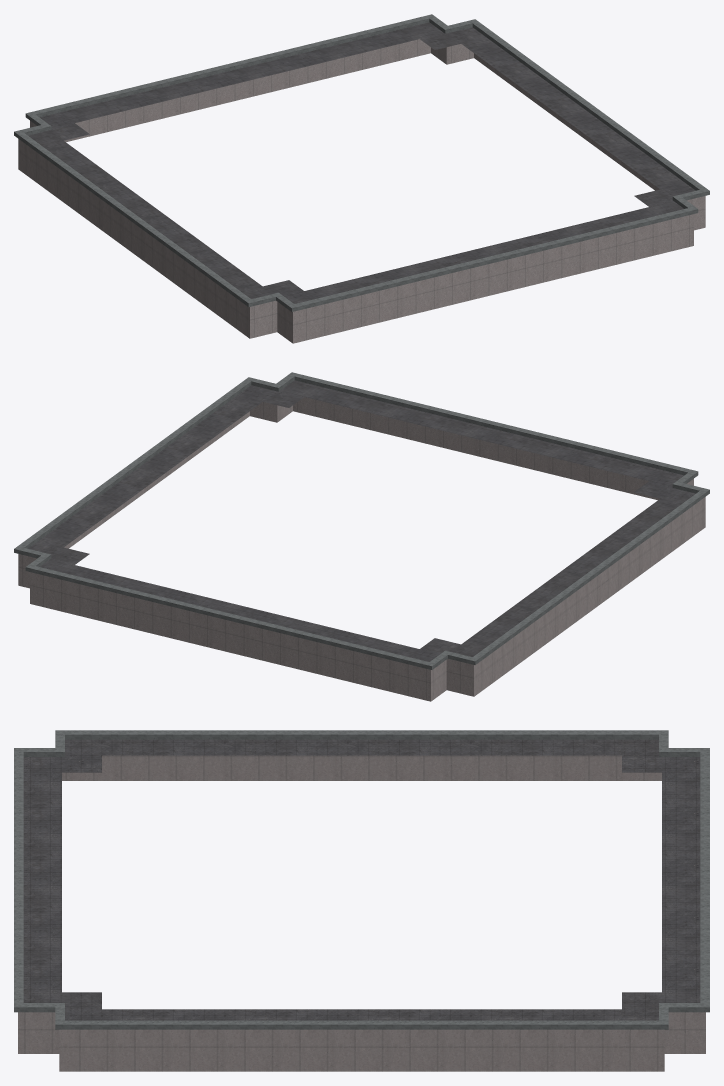
The model's file is jctBld50E_mdl_roof.fbx.
3 renders of one model, top to bottom at view 1: azimuth 30°, elevation 25°; view 2: azimuth 150°, elevation 25°; view 3: azimuth 270°, elevation 25°, orthographic. The views are drawn at different scales.
Visible parts, largest first — view 1: jctBld50E_mdl_roof; view 2: jctBld50E_mdl_roof; view 3: jctBld50E_mdl_roof.
Part boxes in pixels (<box>): jctBld50E_mdl_roof: <box>14,14,709,343</box>; jctBld50E_mdl_roof: <box>14,372,709,701</box>; jctBld50E_mdl_roof: <box>14,730,709,1071</box>.
Size of the model in its own units: 5060 by 390 by 5060.
